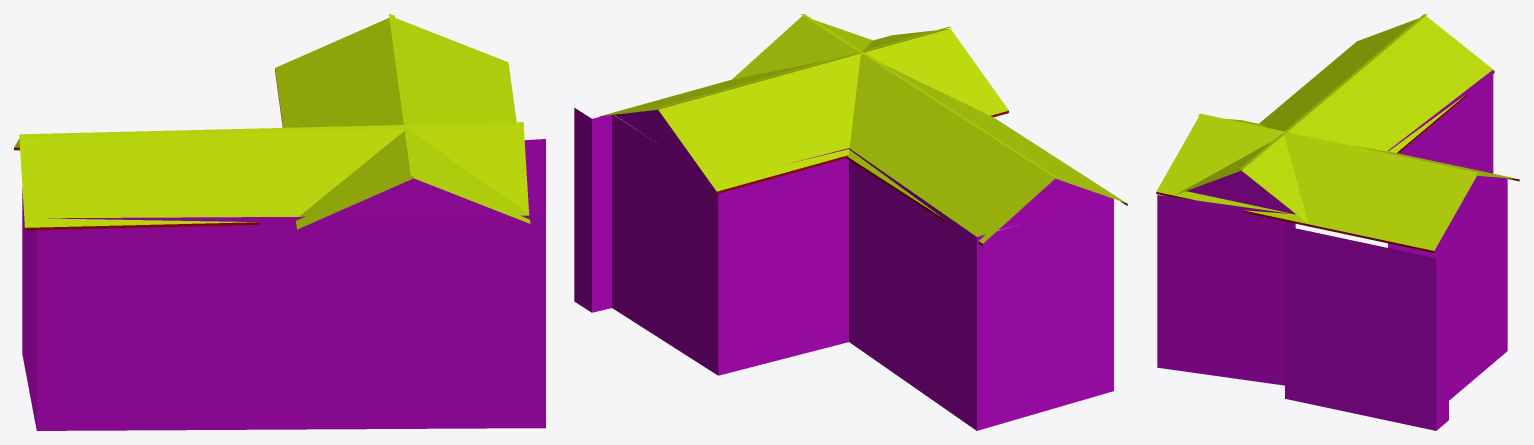
Rendered from ssv_98.glb.
3 renders of one model, left to right at view 1: azimuth 30°, elevation 25°; view 2: azimuth 150°, elevation 25°; view 3: azimuth 270°, elevation 25°, orthographic. The views are drawn at different scales.
Parts seen in each view (by area): view 1: ssv_98; view 2: ssv_98; view 3: ssv_98.
Part boxes in pixels (bbox=[...]): ssv_98: bbox=[14, 14, 545, 430]; ssv_98: bbox=[574, 14, 1127, 430]; ssv_98: bbox=[1156, 14, 1519, 430].
Size of the model in its own units: 26.26 by 11.69 by 18.24.
